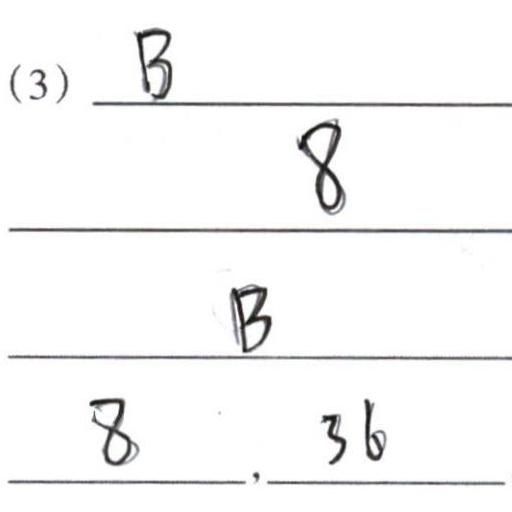ans: (287, 111, 349, 214), (314, 392, 386, 466), (127, 17, 176, 100), (226, 281, 277, 355), (87, 394, 137, 466)
